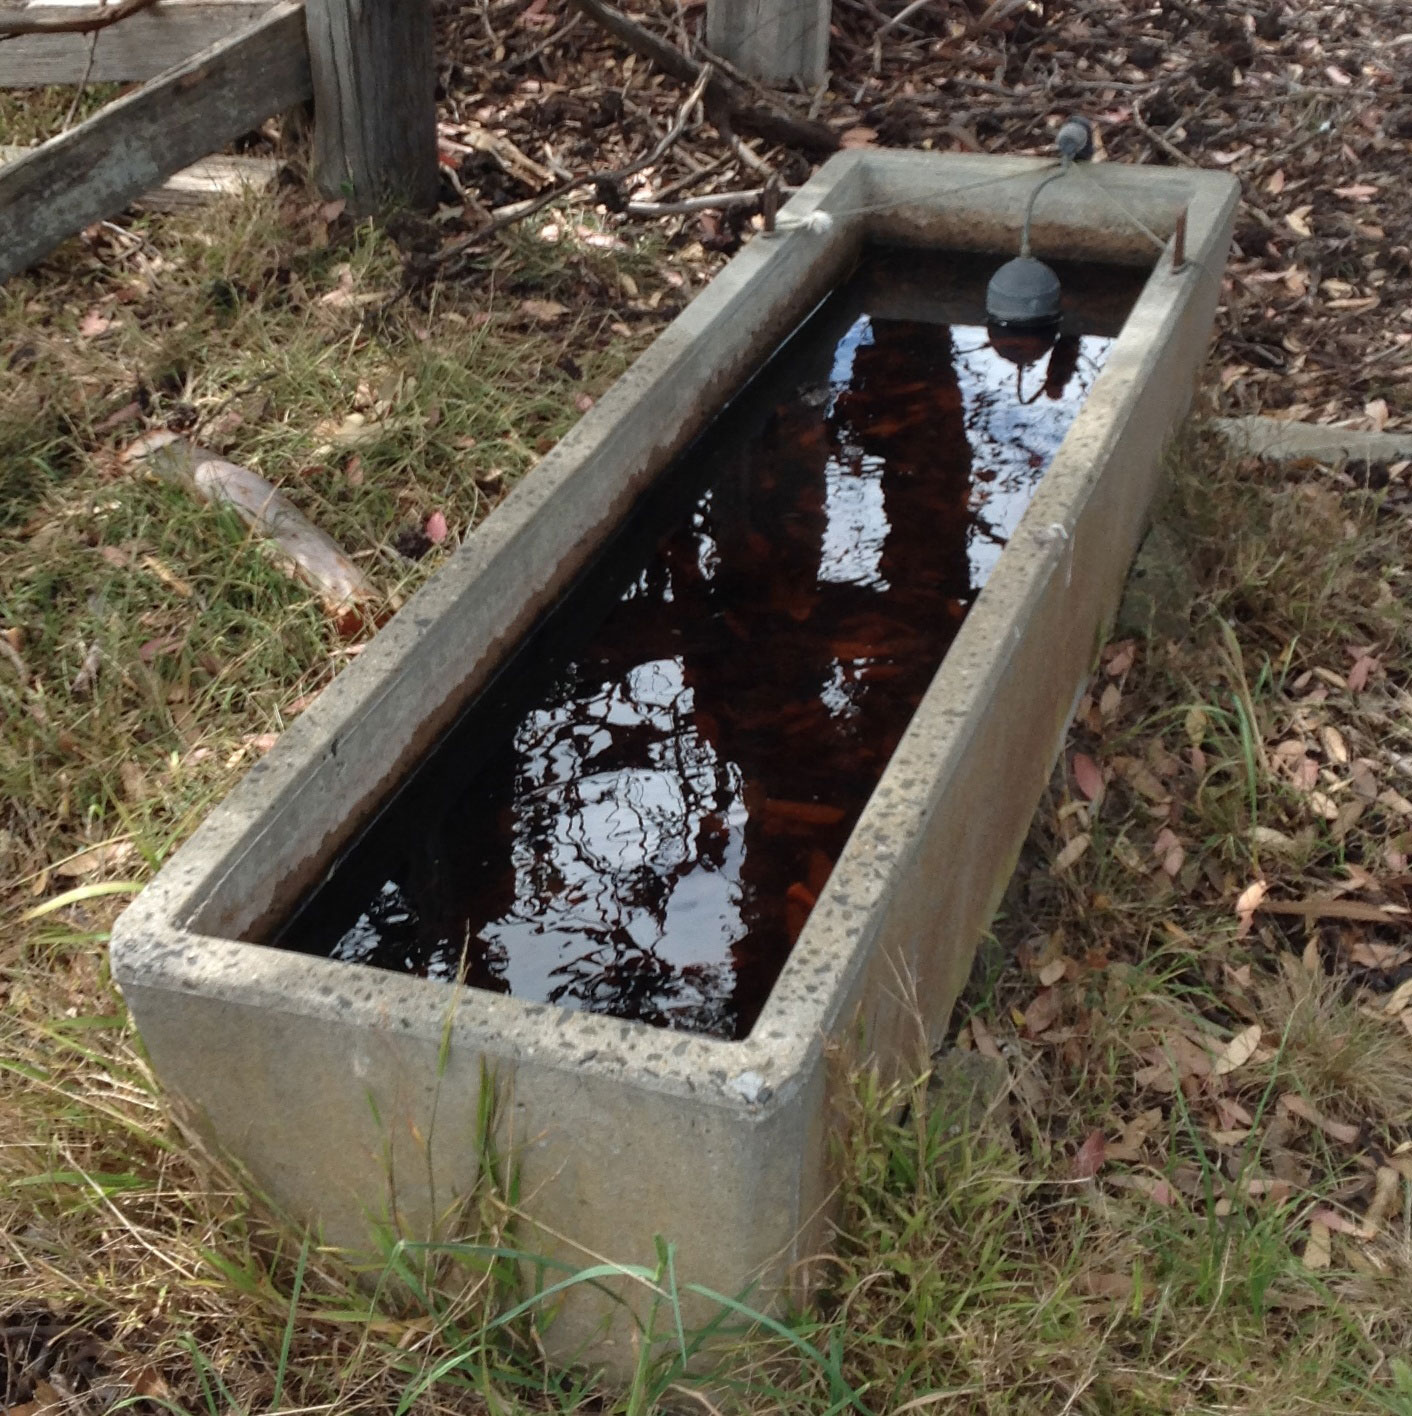container: (92, 88, 1281, 1375)
water: (740, 265, 1121, 596), (617, 394, 998, 725), (380, 663, 762, 994), (506, 541, 886, 872)
